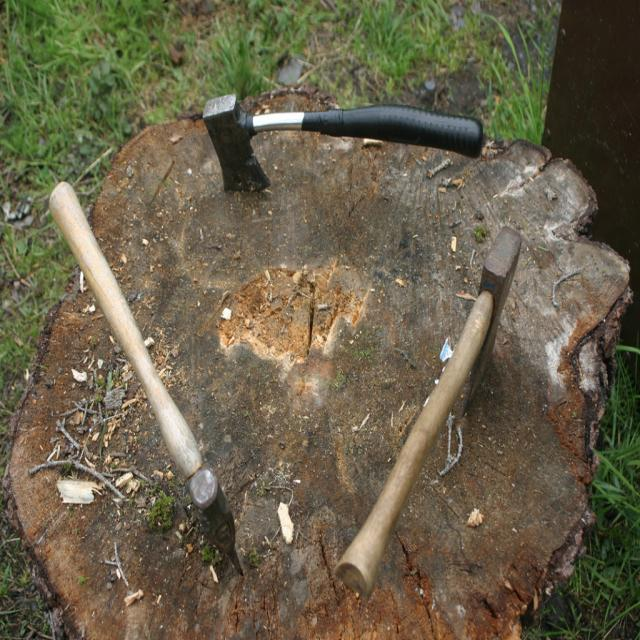Axe: (50, 182, 242, 573), (336, 228, 521, 596), (202, 95, 484, 191)
